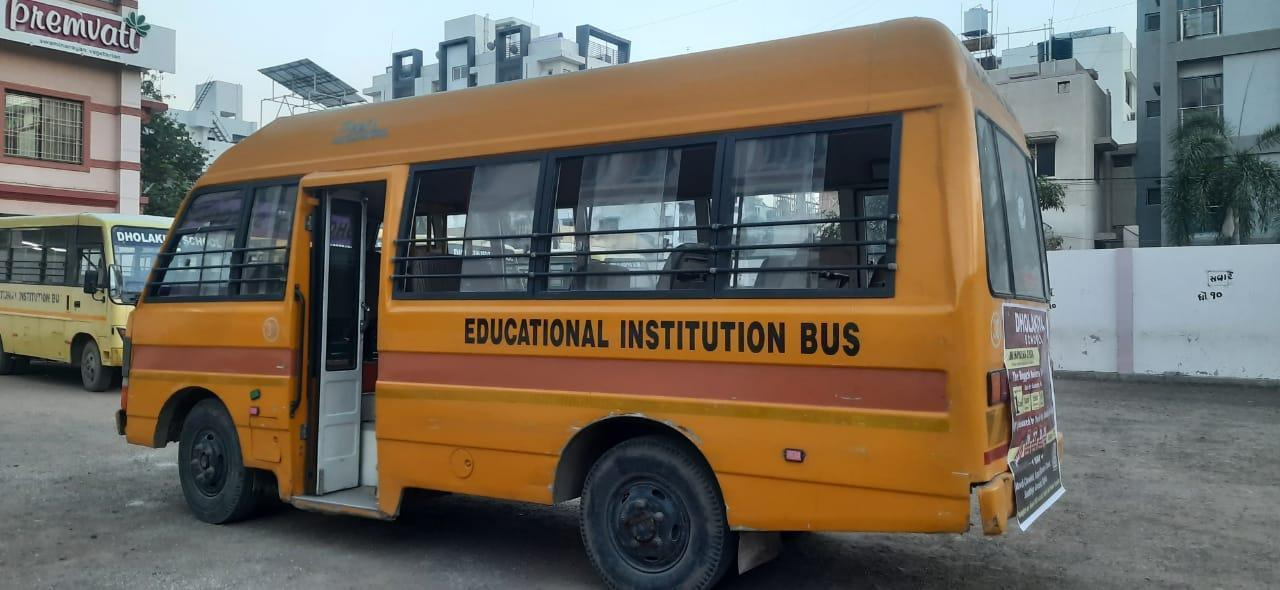Bus: (123, 105, 1018, 571), (5, 213, 159, 373)
